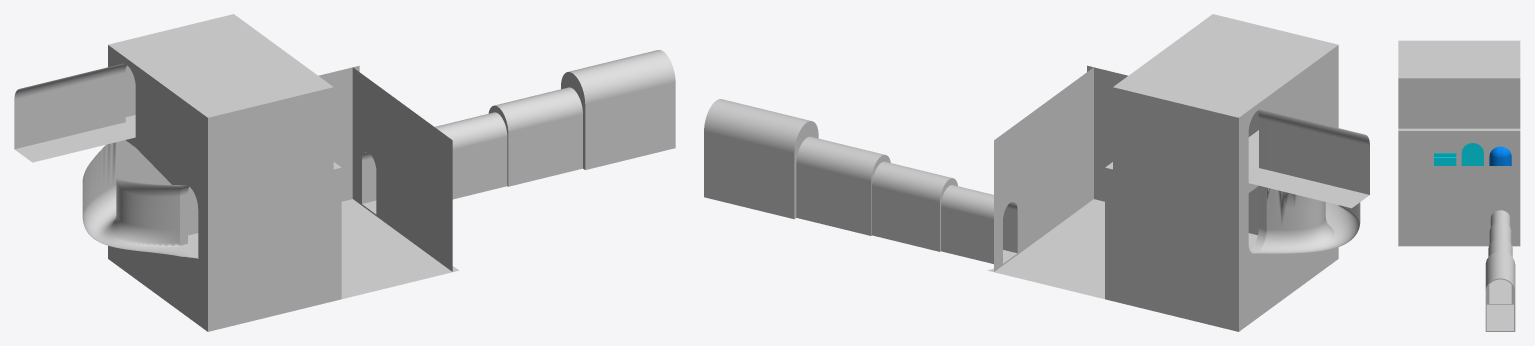
The model's file is room_2.glb.
The picture shows the model from 3 angles, left to right: view 1: azimuth 30°, elevation 25°; view 2: azimuth 150°, elevation 25°; view 3: azimuth 270°, elevation 25°; orthographic projection. The views are drawn at different scales.
Visible parts, largest first — view 1: Room_2; view 2: Room_2; view 3: Room_2.
Boxes of the visible parts, x1,y1,x2,y2 form: Room_2: (14, 14, 675, 331); Room_2: (704, 14, 1369, 331); Room_2: (1398, 40, 1520, 331).
Bounding box in the file's own units: 40.82 × 13 × 11.
